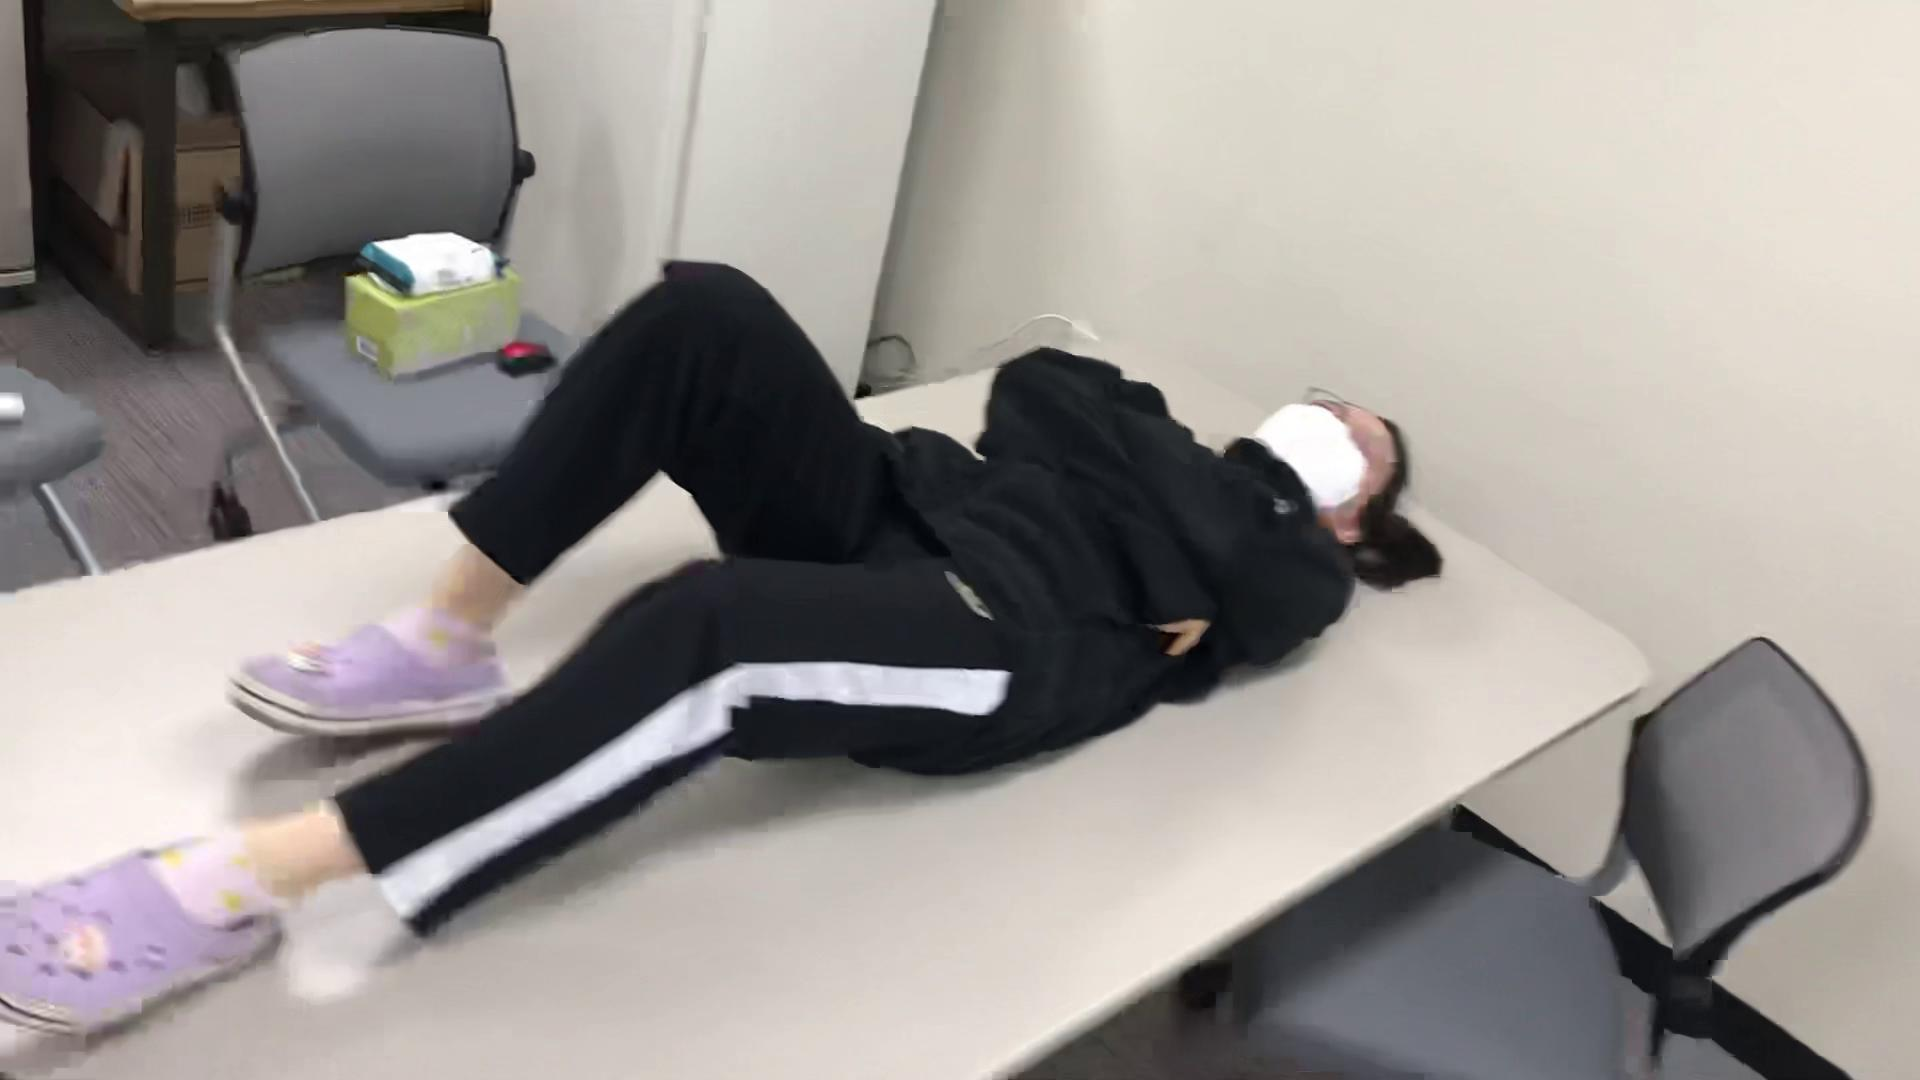sleep: (7, 255, 1414, 1040)
